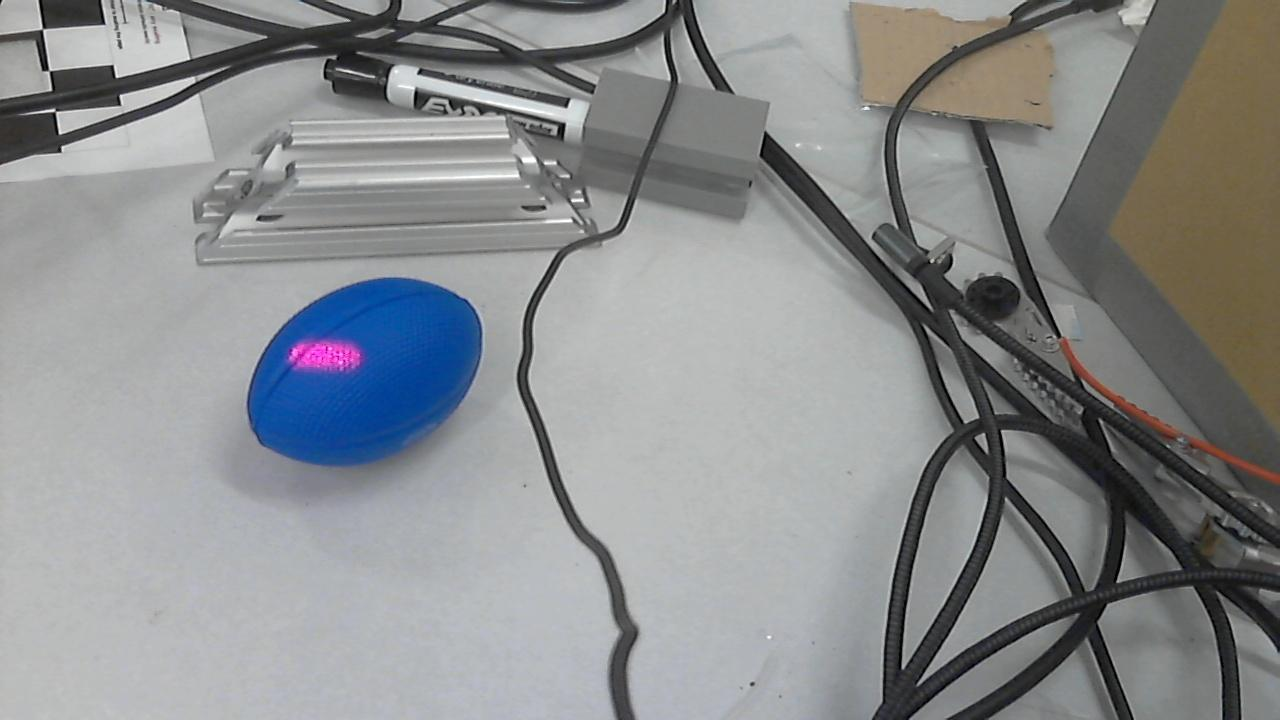Object toy football - Material foam - Color blue - Pdfname VT1ffZoLOnKv: (277, 329, 379, 379)
